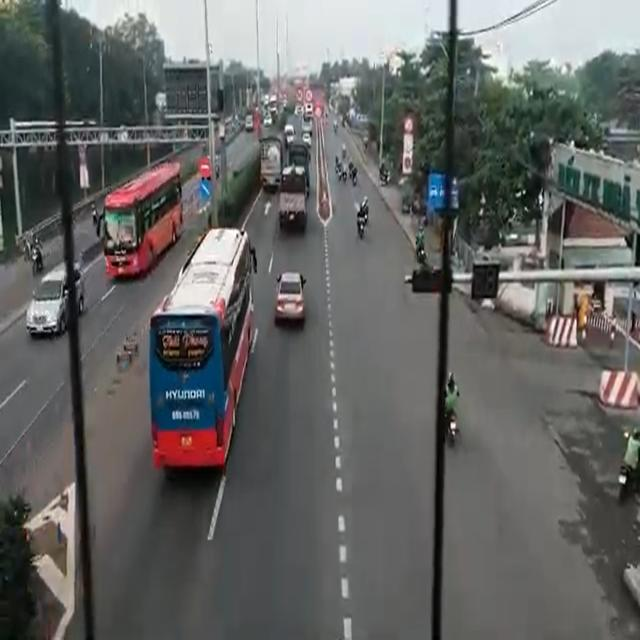bus: (152, 228, 249, 465), (105, 160, 175, 276)
car: (29, 267, 79, 335), (276, 264, 303, 324)
motor: (447, 374, 460, 440), (354, 200, 368, 243)
truck: (280, 174, 306, 230), (260, 129, 281, 195), (289, 145, 310, 177)
